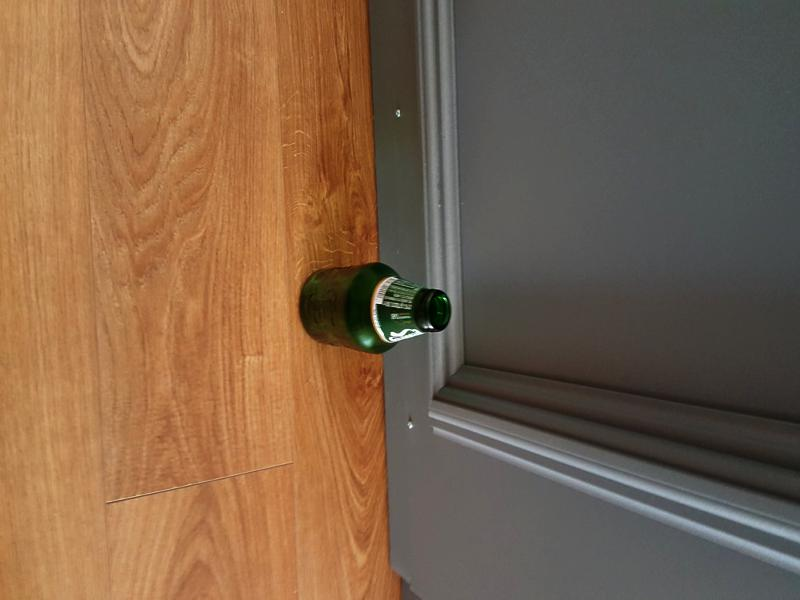Beer: (298, 262, 450, 353)
